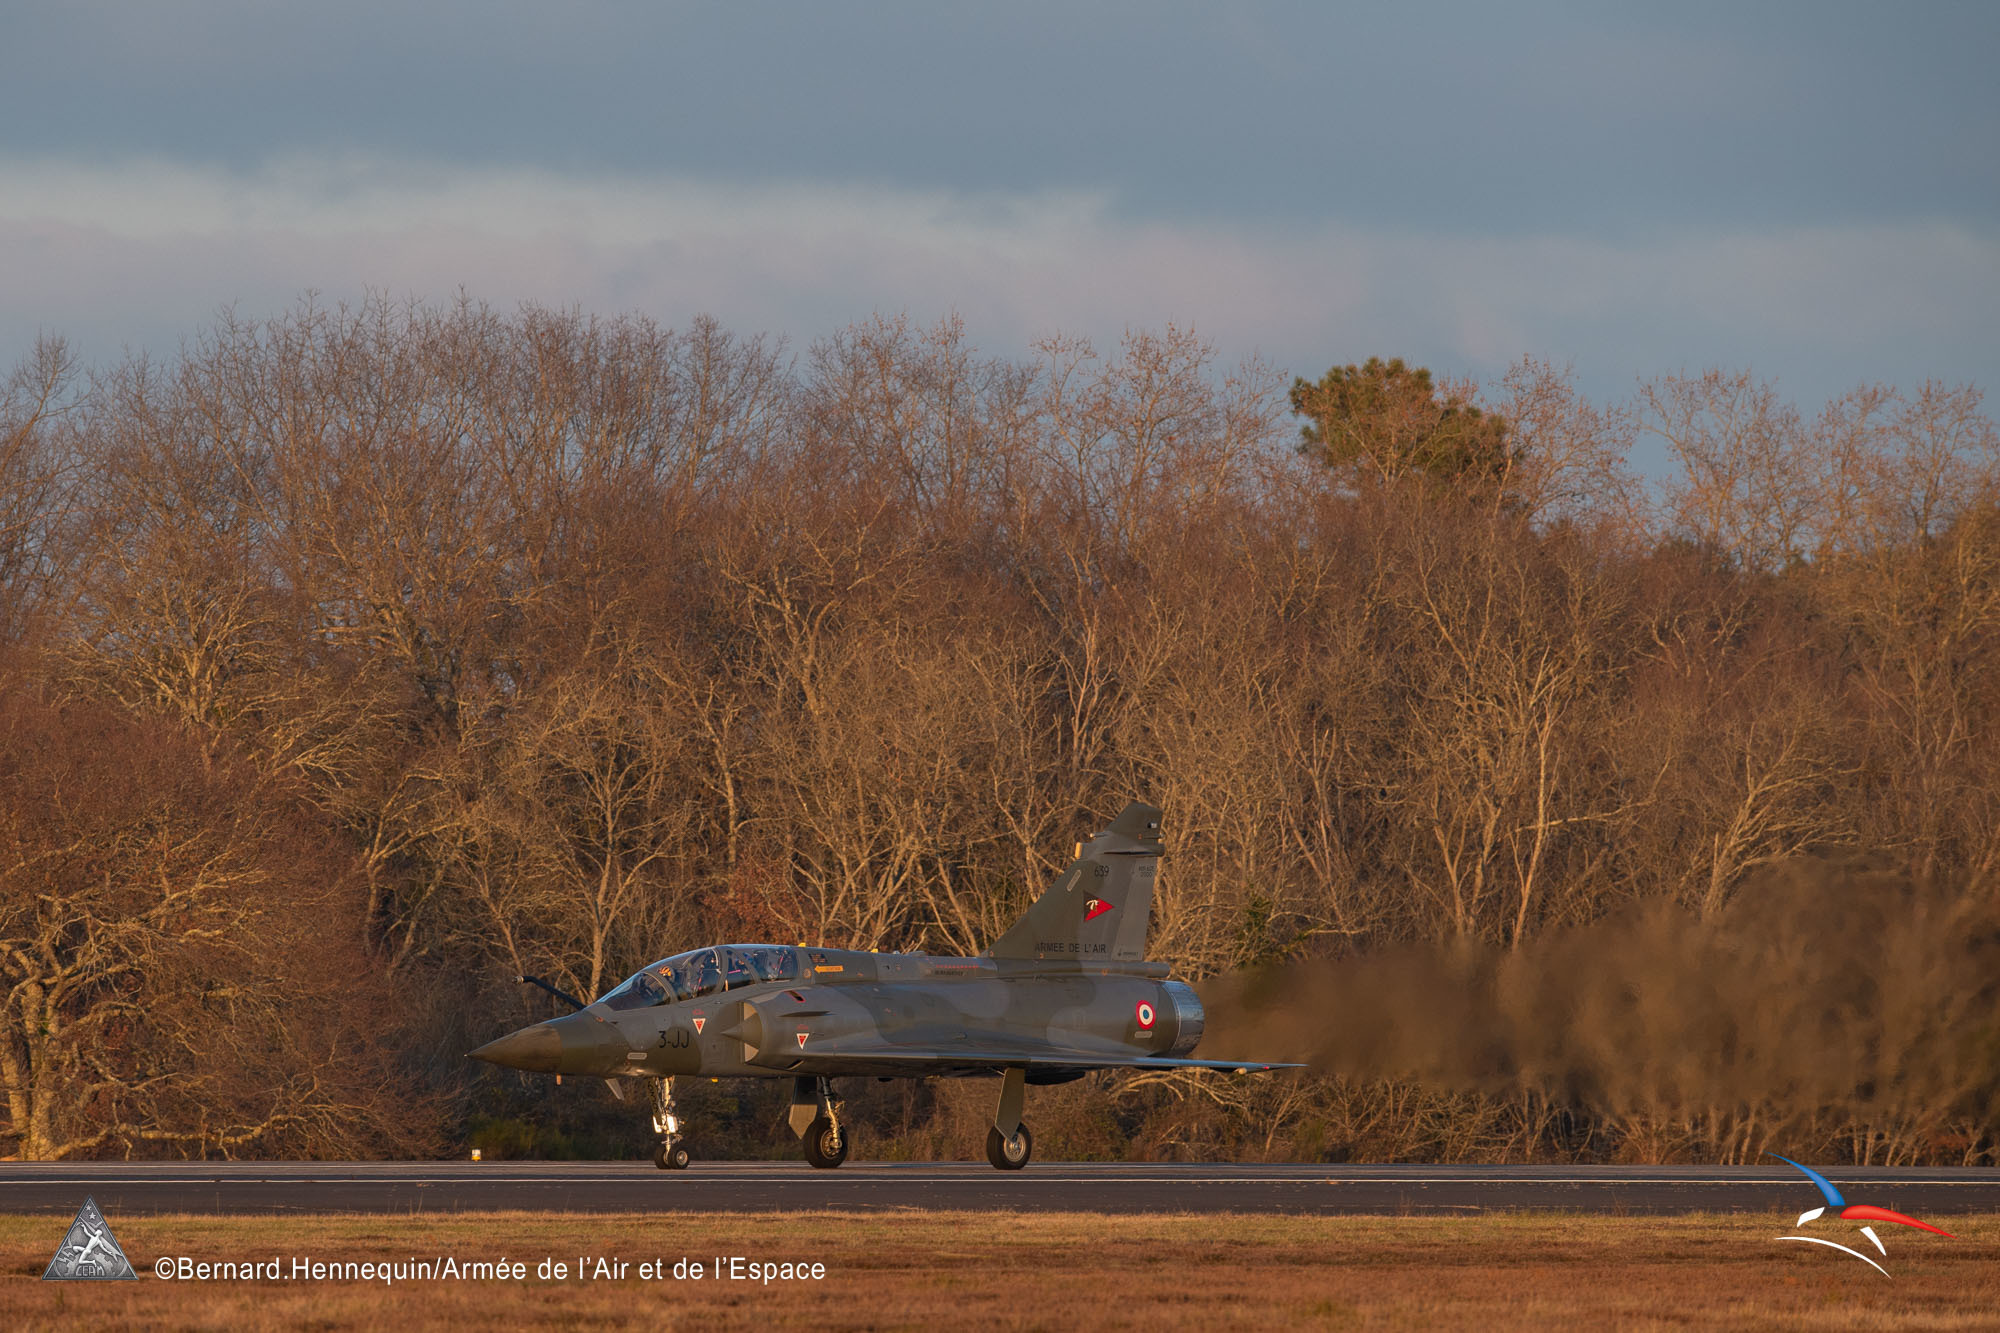Mirage2000: (462, 800, 1310, 1171)
